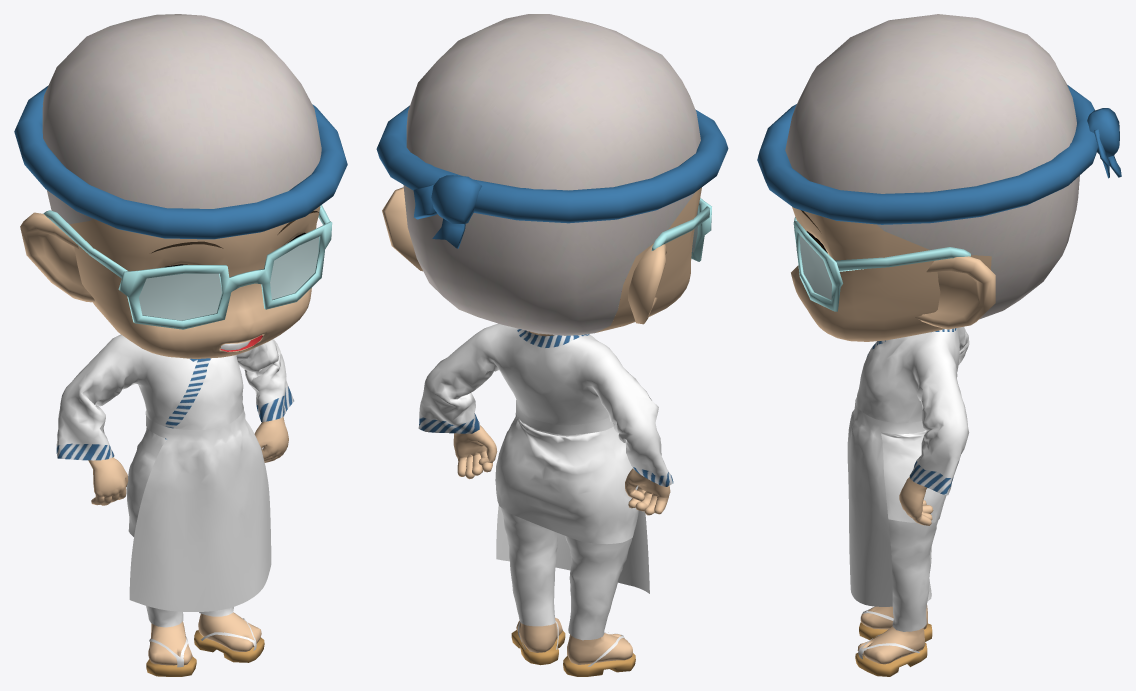
File: Sushi.glb
3 renders of one model, left to right at view 1: azimuth 30°, elevation 25°; view 2: azimuth 150°, elevation 25°; view 3: azimuth 270°, elevation 25°, orthographic. The views are drawn at different scales.
Parts seen in each view (by area): view 1: Sushi_Jambosan; view 2: Sushi_Jambosan; view 3: Sushi_Jambosan.
Part boxes in pixels (x1,y1,x2,y2): Sushi_Jambosan: (14,14,347,676); Sushi_Jambosan: (376,14,728,676); Sushi_Jambosan: (757,14,1121,676).
Bounding box in the file's own units: 0.7777 × 1.65 × 0.8828.
Materials: 3 (3 with a texture image).
